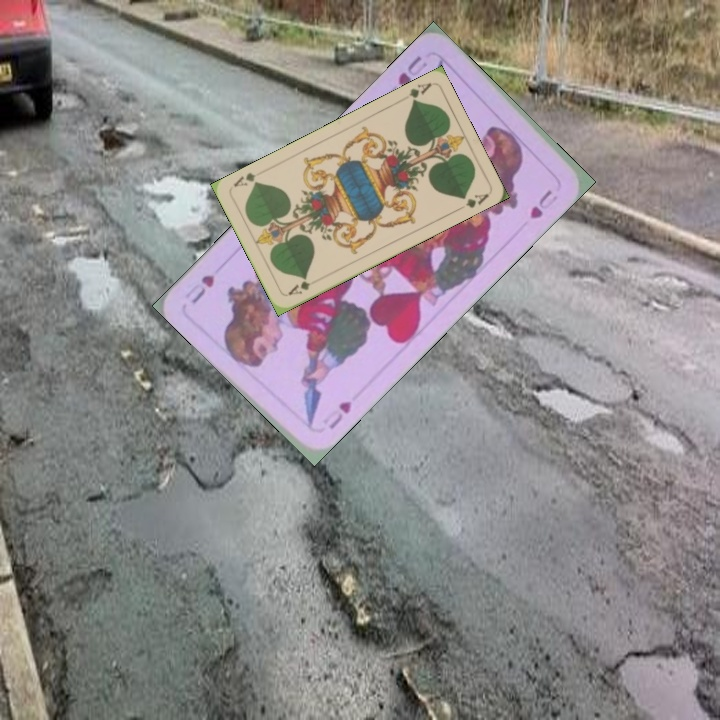GA: (284, 274, 322, 298), (405, 79, 433, 106)
HU: (394, 52, 430, 88), (325, 396, 354, 432)
